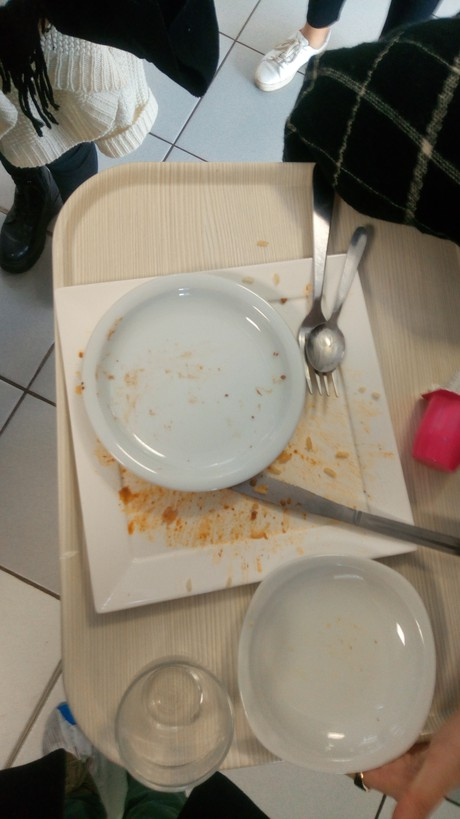cup: (110, 636, 231, 819)
cutlery: (287, 147, 376, 390), (253, 472, 460, 556)
trash: (410, 376, 460, 471)
